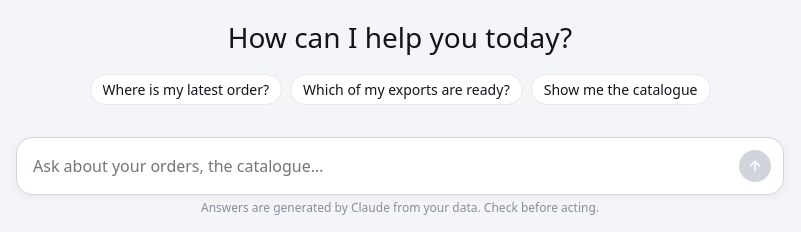
it: AssistantPage › greets an empty chat with suggestions that fill the composer
Expected: the heading "How can I help you today?" is shown, x1=228 y1=16 x2=572 y2=58
Click the button "Where is my latest order?".
click(186, 90)  # box x1=90 y1=74 x2=282 y2=105
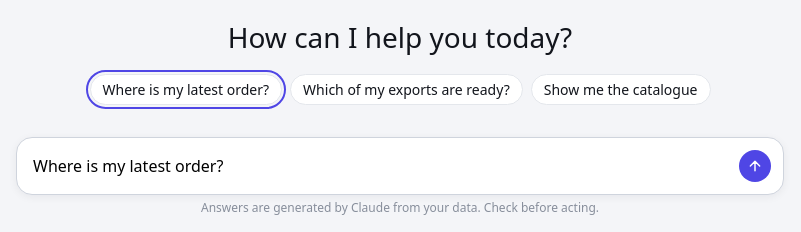
Result: the text box named "Your question" holds "Where is my latest order?" at x1=33 y1=150 x2=731 y2=182
